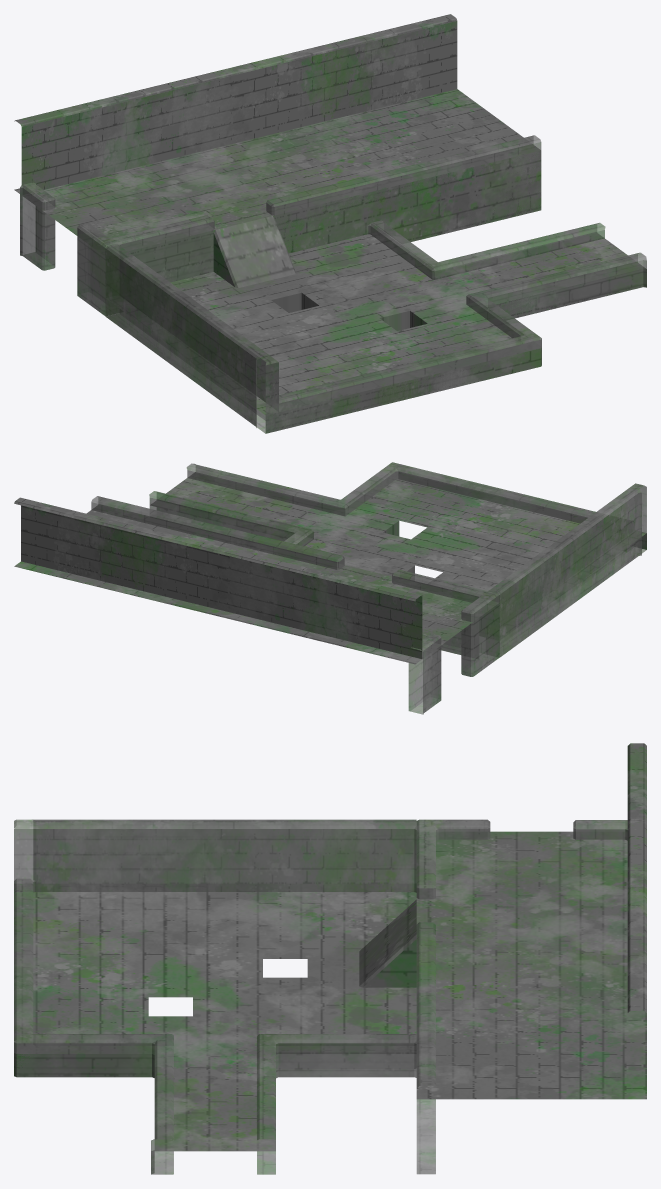
The model's file is lvl_1-cnk_2.obj.
3 renders of one model, top to bottom at view 1: azimuth 30°, elevation 25°; view 2: azimuth 150°, elevation 25°; view 3: azimuth 270°, elevation 25°, orthographic. The views are drawn at different scales.
Parts seen in each view (by area): view 1: Cube.062, Cube.063, Cube.064, Cube.069, Cube.067, Cube.068, Cube.065, Cube.066; view 2: Cube.062, Cube.063, Cube.069, Cube.064, Cube.068, Cube.067, Cube.065, Cube.066; view 3: Cube.062, Cube.069, Cube.064, Cube.065, Cube.063, Cube.067, Cube.068, Cube.066.
Part boxes in pixels (x1,y1,x2,y2): Cube.062: (14,89,646,433); Cube.063: (14,14,457,194); Cube.064: (279,252,646,430); Cube.069: (105,243,278,433); Cube.067: (266,135,541,248); Cube.068: (77,215,214,316); Cube.065: (368,220,605,279); Cube.066: (20,182,55,270); Cube.062: (14,471,646,664); Cube.063: (14,497,422,658); Cube.069: (488,483,646,657); Cube.064: (186,462,595,523); Cube.068: (392,569,499,676); Cube.067: (91,496,344,569); Cube.065: (149,491,313,546); Cube.066: (408,633,441,714); Cube.062: (14,831,646,1174); Cube.069: (14,819,416,892); Cube.064: (14,878,173,1174); Cube.065: (257,1034,416,1174); Cube.063: (627,743,646,1012); Cube.067: (416,922,435,1174); Cube.068: (416,819,490,899); Cube.066: (573,820,627,840).
Size of the model in its own units: 99.89 by 28.22 by 99.
3 materials, 3 textured.
